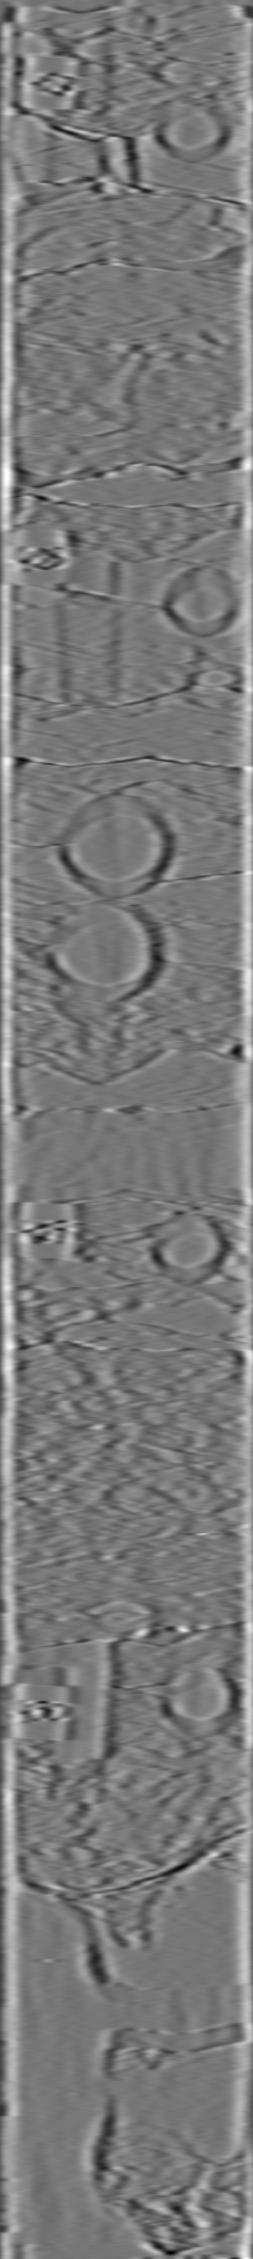hplug: (138, 1207, 241, 1295), (152, 553, 243, 648), (149, 1655, 244, 1745), (142, 81, 239, 167)
scal: (43, 898, 171, 1014), (50, 788, 180, 902)
vplug: (36, 1625, 122, 1811), (34, 7, 114, 200), (47, 546, 129, 712)
